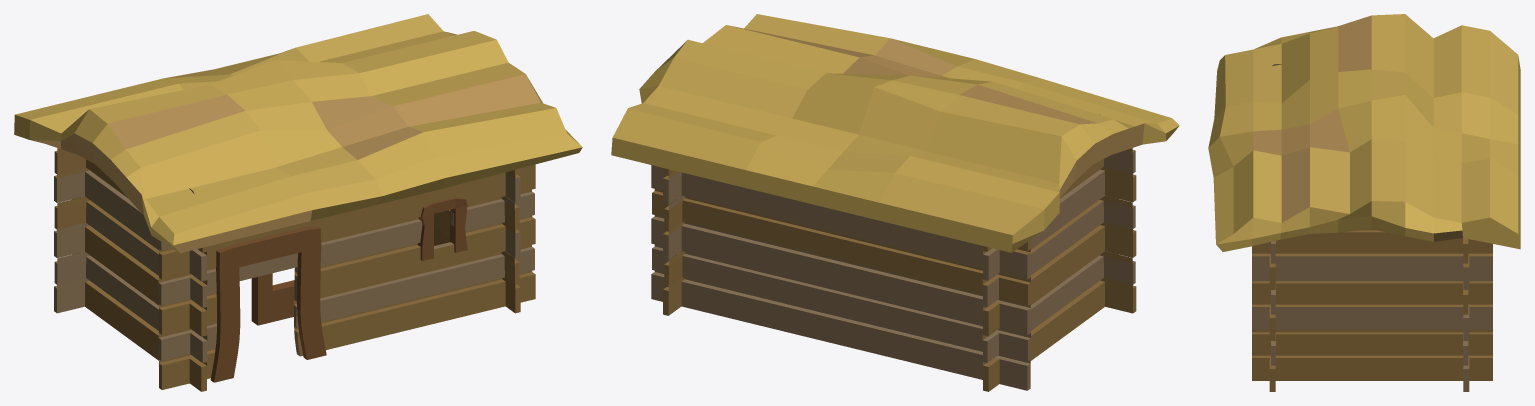
Rendered from shed.fbx.
The picture shows the model from 3 angles, left to right: view 1: azimuth 30°, elevation 25°; view 2: azimuth 150°, elevation 25°; view 3: azimuth 270°, elevation 25°; orthographic projection. The views are drawn at different scales.
Parts seen in each view (by area): view 1: Plane.003, SCIANAFRONT, Plane.005, DRZWI, Plane.004, Plane.001, Plane, Plane.006; view 2: Plane.003, Plane.004, Plane.005, SCIANAFRONT, Plane.001; view 3: Plane.003, Plane.001, Plane.004, SCIANAFRONT.
Part boxes in pixels (box(x1,y1,x2,y2)): Plane.003: box(14, 14, 582, 253); SCIANAFRONT: box(158, 164, 535, 389); Plane.005: box(72, 159, 207, 391); DRZWI: box(210, 226, 326, 382); Plane.004: box(54, 148, 89, 313); Plane.001: box(434, 168, 520, 313); Plane: box(251, 242, 449, 325); Plane.006: box(417, 197, 467, 260); Plane.003: box(611, 14, 1179, 252); Plane.004: box(651, 165, 1030, 390); Plane.005: box(982, 114, 1118, 391); SCIANAFRONT: box(1099, 148, 1136, 313); Plane.001: box(663, 168, 685, 315); Plane.003: box(1208, 14, 1520, 251); Plane.001: box(1252, 229, 1492, 380); Plane.004: box(1463, 238, 1469, 391); SCIANAFRONT: box(1269, 241, 1275, 391).
Bounding box in the file's own units: 853 × 438 × 577.
